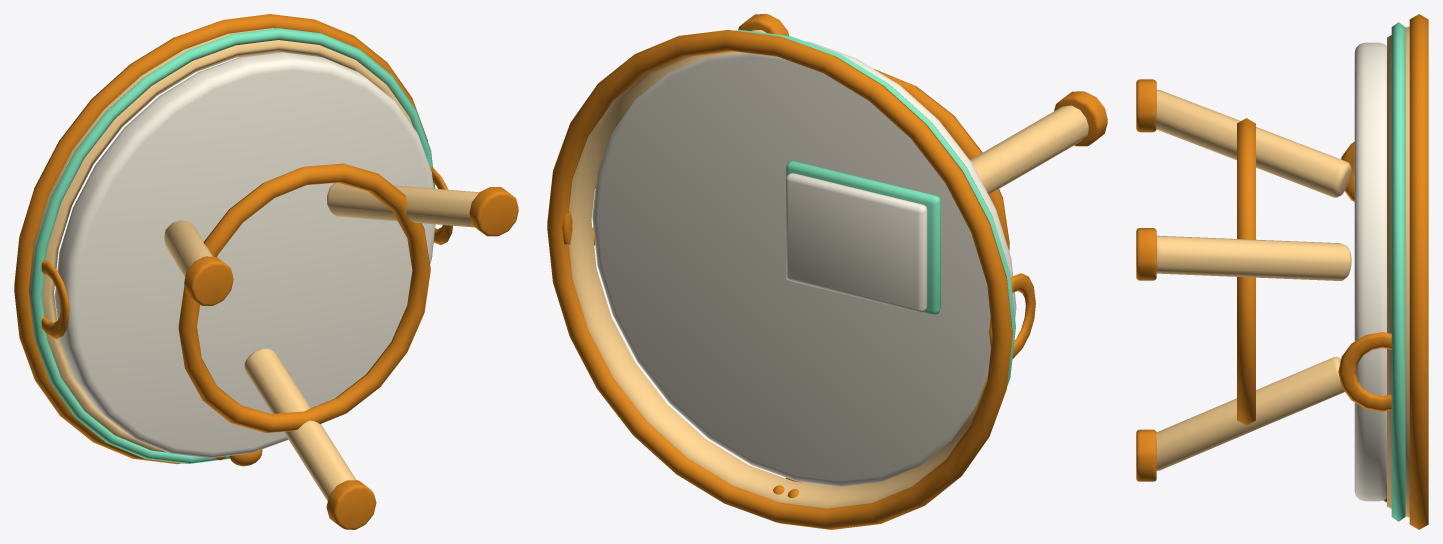
The model's file is BalconySideTable_Premium.fbx.
3 views of the same model, side by side, from view 1: azimuth 30°, elevation 25°; view 2: azimuth 150°, elevation 25°; view 3: azimuth 270°, elevation 25° (orthographic). The views are drawn at different scales.
Visible parts, largest first — view 1: BalconySideTable; view 2: BalconySideTable; view 3: BalconySideTable.
Boxes of the visible parts, box(x1,y1,x2,y2) form: BalconySideTable: box(14, 14, 518, 529); BalconySideTable: box(547, 14, 1107, 529); BalconySideTable: box(1136, 14, 1428, 529).
Size of the model in its own units: 0.702 by 0.702 by 0.398.
